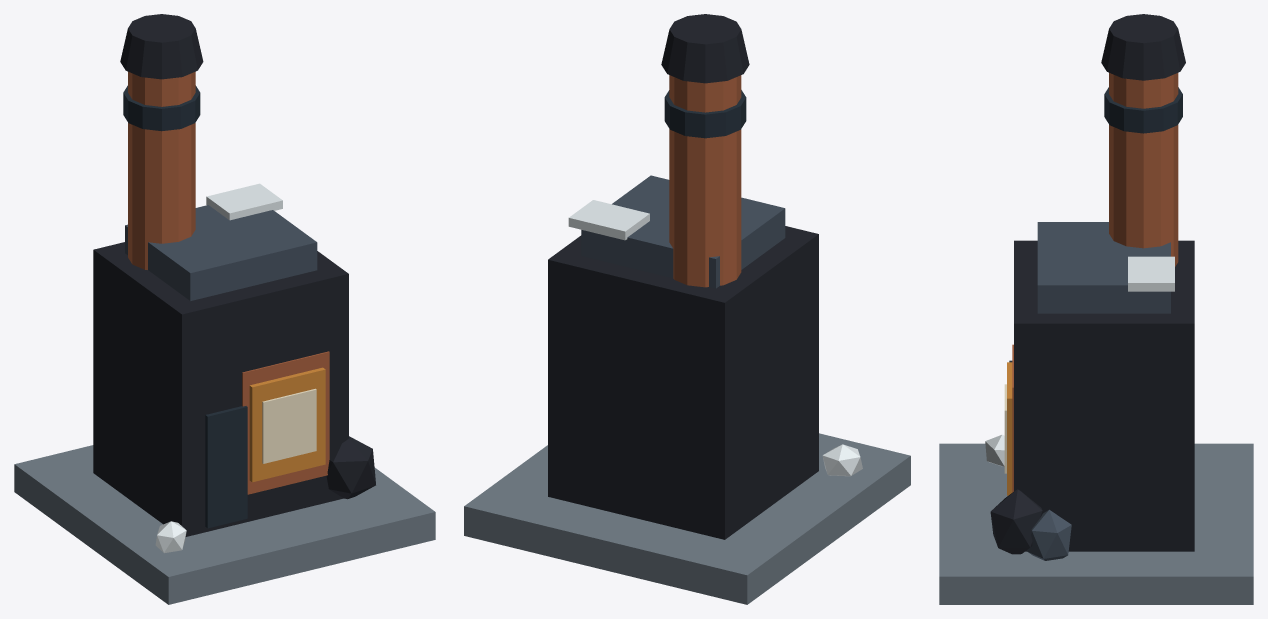
Rendered from coal_furnace.glb.
3 views of the same model, side by side, from view 1: azimuth 30°, elevation 25°; view 2: azimuth 150°, elevation 25°; view 3: azimuth 270°, elevation 25° (orthographic). The views are drawn at different scales.
Parts seen in each view (by area): view 1: coal_furnace; view 2: coal_furnace; view 3: coal_furnace.
Part boxes in pixels (x1,y1,x2,y2): coal_furnace: (14, 14, 435, 604); coal_furnace: (464, 14, 910, 604); coal_furnace: (939, 14, 1253, 604).
Bounding box in the file's own units: 1 × 1.72 × 1.
Materials: 1 (1 with a texture image).
